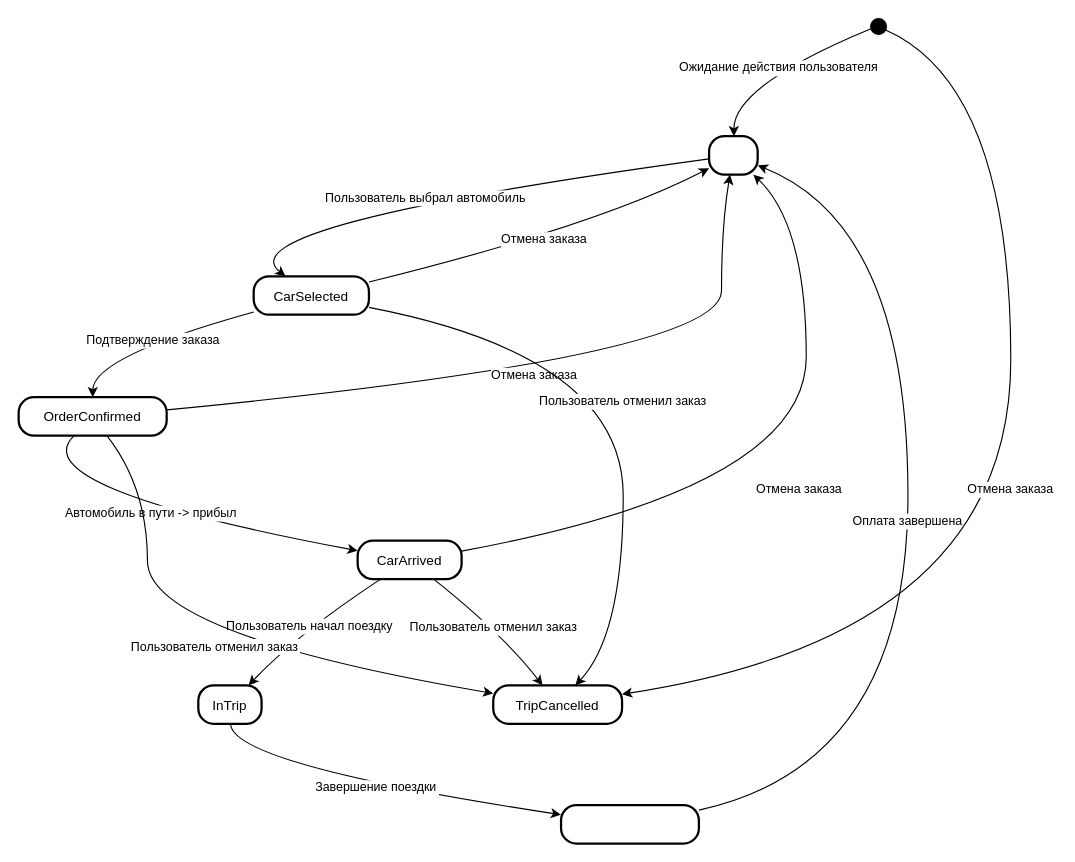
This 1075x862 diagram has some shape labels left out. The shapes that lost their labels are listed below. From the top down, each one's centre as x and y in pixels, then its label:
At pixel 732 154: "Idle".
At pixel 629 823: "TripCompleted".
